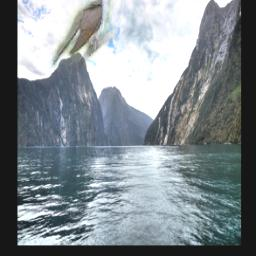Cuckoo: (48, 0, 115, 71)
